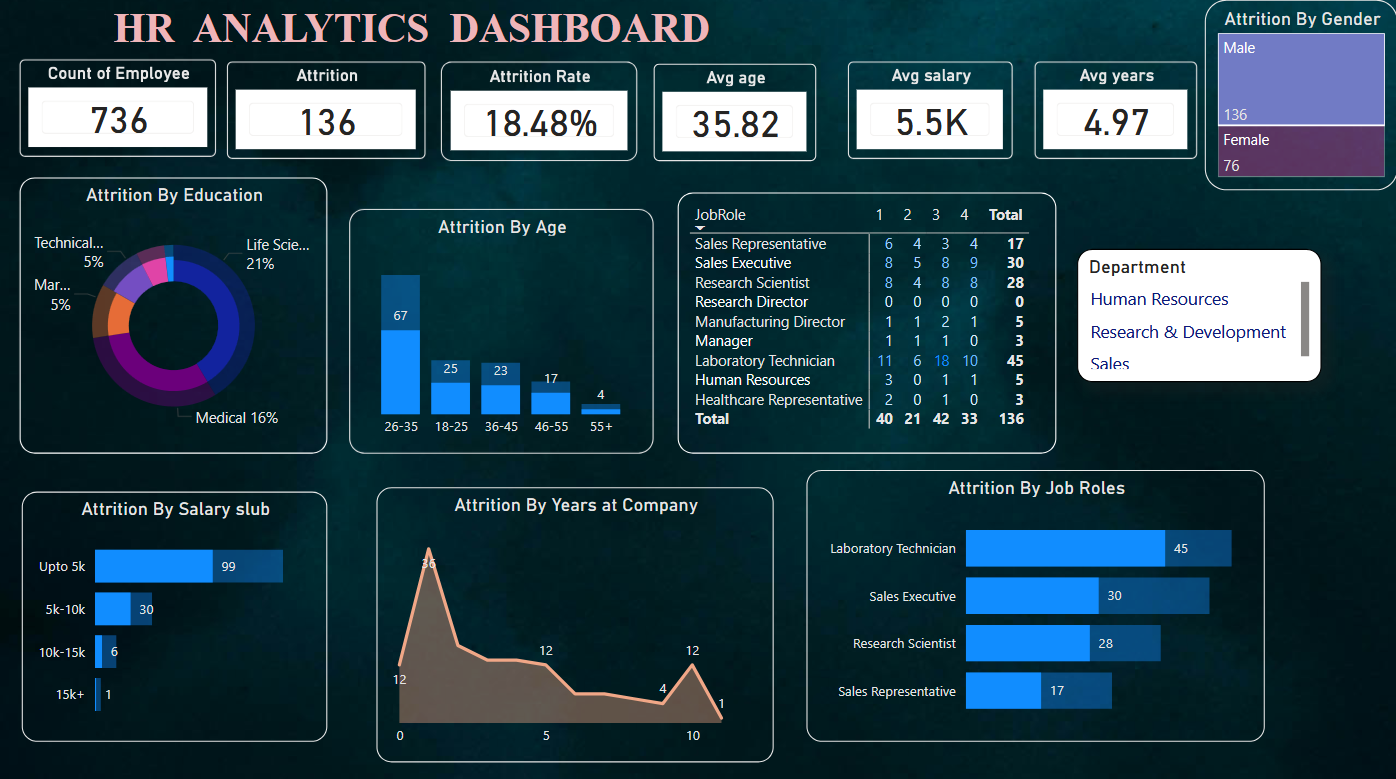

This screenshot's page, from the dashboard's own definition file:
{"tool":"powerbi","page":{"name":"Page 1","canvas":[1280,720],"ordinal":0},"visuals":[{"type":"cardVisual","title":"Count of Employee","fields":{"Data":["CountNonNull(HR_Analytics.EmpID)"]},"box":[18.4,55.1,180.1,90],"z":0},{"type":"cardVisual","title":"Attrition","fields":{"Data":["Sum(HR_Analytics.AttritionCount)"]},"box":[207.6,57,181.9,90],"z":1000},{"type":"cardVisual","title":"Attrition  Rate","fields":{"Data":["HR_Analytics.AtrritionRate"]},"box":[404.3,57,180.1,91.9],"z":2000},{"type":"cardVisual","title":"Avg  age","fields":{"Data":["Avg(HR_Analytics.Age)"]},"box":[599,58.8,148.8,90],"z":3000},{"type":"cardVisual","title":"Avg salary","fields":{"Data":["Avg(HR_Analytics.MonthlyIncome)"]},"box":[777.3,57,150.7,90],"z":4000},{"type":"cardVisual","title":"Avg years","fields":{"Data":["Avg(HR_Analytics.YearsAtCompany)"]},"box":[948.2,57,148.8,90],"z":5000},{"type":"donutChart","title":"Attrition By Education","fields":{"Y":["CountNonNull(HR_Analytics.Attrition)"],"Category":["HR_Analytics.EducationField"]},"box":[18.4,163.5,281.1,255.4],"z":6000},{"type":"columnChart","title":"Attrition By Age","fields":{"Category":["HR_Analytics.AgeGroup"],"Y":["Sum(HR_Analytics.AttritionCount)"]},"box":[319.7,192.9,279.3,226],"z":7000},{"type":"pivotTable","fields":{"Rows":["HR_Analytics.JobRole"],"Columns":["HR_Analytics.JobSatisfaction"],"Values":["Sum(HR_Analytics.AttritionCount)"]},"box":[621.1,178.2,347.3,240.7],"z":8000},{"type":"barChart","title":"Attrition By Salary slub","fields":{"Category":["HR_Analytics.SalarySlab"],"Y":["Sum(HR_Analytics.AttritionCount)"]},"box":[20.2,453.9,279.3,231.5],"z":9000},{"type":"barChart","title":"Attrition By Job Roles","fields":{"Category":["HR_Analytics.JobRole"],"Y":["Sum(HR_Analytics.AttritionCount)"]},"box":[738.7,433.7,420.8,251.7],"z":10000},{"type":"areaChart","title":"Attrition By Years at Company","fields":{"Category":["HR_Analytics.YearsAtCompany"],"Y":["Sum(HR_Analytics.AttritionCount)"]},"box":[345.5,450.2,363.8,253.6],"z":11000},{"type":"treemap","title":"Attrition By Gender","fields":{"Group":["HR_Analytics.Gender"],"Values":["Sum(HR_Analytics.AttritionCount)"]},"box":[1104.4,0,176.4,176.4],"z":12000},{"type":"listSlicer","fields":{"Values":["HR_Analytics.Department"]},"box":[986.8,229.7,224.2,123.1],"z":13000},{"type":"textbox","box":[99.2,0,630.3,55.1],"z":13001}]}

Visuals, with their boxes in screenshot pixels (x1, y1, x2, y2), scaled from the page's 1280x720 canvas onto the 1396x779 screenshot:
"Count of Employee" cardVisual: pyautogui.locateOnScreen(20, 60, 216, 157)
"Attrition" cardVisual: pyautogui.locateOnScreen(226, 62, 425, 159)
"Attrition  Rate" cardVisual: pyautogui.locateOnScreen(441, 62, 637, 161)
"Avg  age" cardVisual: pyautogui.locateOnScreen(653, 64, 816, 161)
"Avg salary" cardVisual: pyautogui.locateOnScreen(848, 62, 1012, 159)
"Avg years" cardVisual: pyautogui.locateOnScreen(1034, 62, 1196, 159)
"Attrition By Education" donutChart: pyautogui.locateOnScreen(20, 177, 327, 453)
"Attrition By Age" columnChart: pyautogui.locateOnScreen(349, 209, 653, 453)
pivotTable - HR_Analytics.JobRole x HR_Analytics.JobSatisfaction: pyautogui.locateOnScreen(677, 193, 1056, 453)
"Attrition By Salary slub" barChart: pyautogui.locateOnScreen(22, 491, 327, 742)
"Attrition By Job Roles" barChart: pyautogui.locateOnScreen(806, 469, 1265, 742)
"Attrition By Years at Company" areaChart: pyautogui.locateOnScreen(377, 487, 774, 761)
"Attrition By Gender" treemap: pyautogui.locateOnScreen(1204, 0, 1395, 191)
listSlicer - HR_Analytics.Department: pyautogui.locateOnScreen(1076, 249, 1321, 382)
textbox: pyautogui.locateOnScreen(108, 0, 796, 60)
